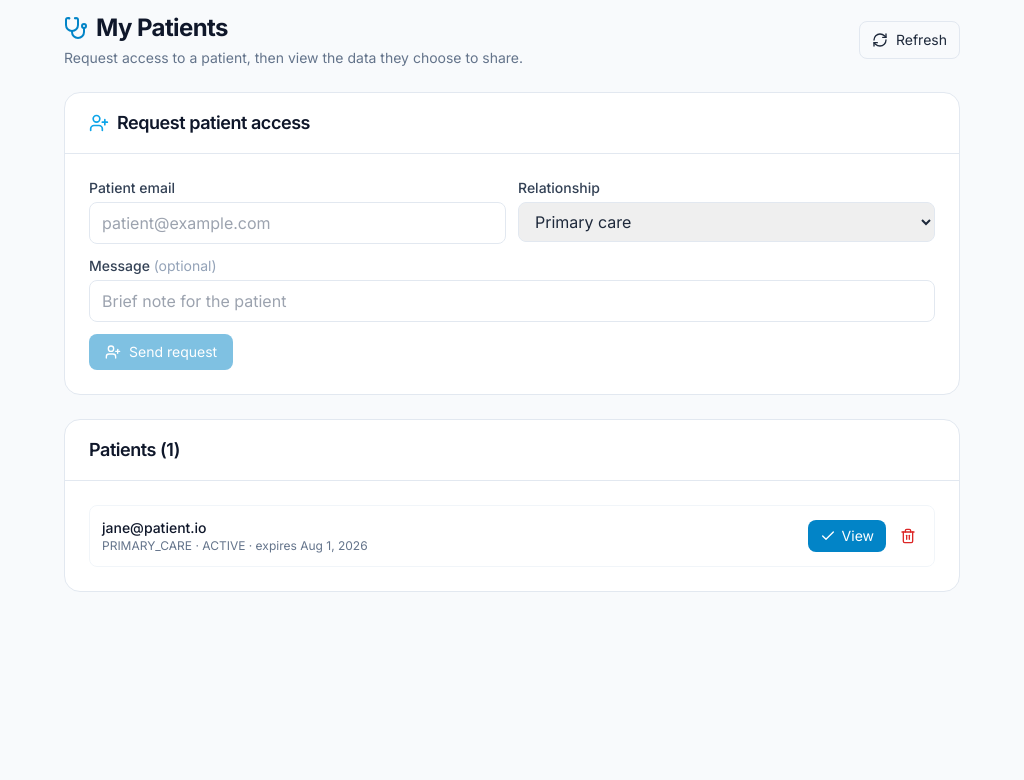
MyPatientsPage › gates the insurance section on canViewInsurance (M3): shows fallback + skips fetch when denied
This screenshot has width=1024, height=780.
Click the button "View" at (847, 536), box x1=808 y1=520 x2=886 y2=552
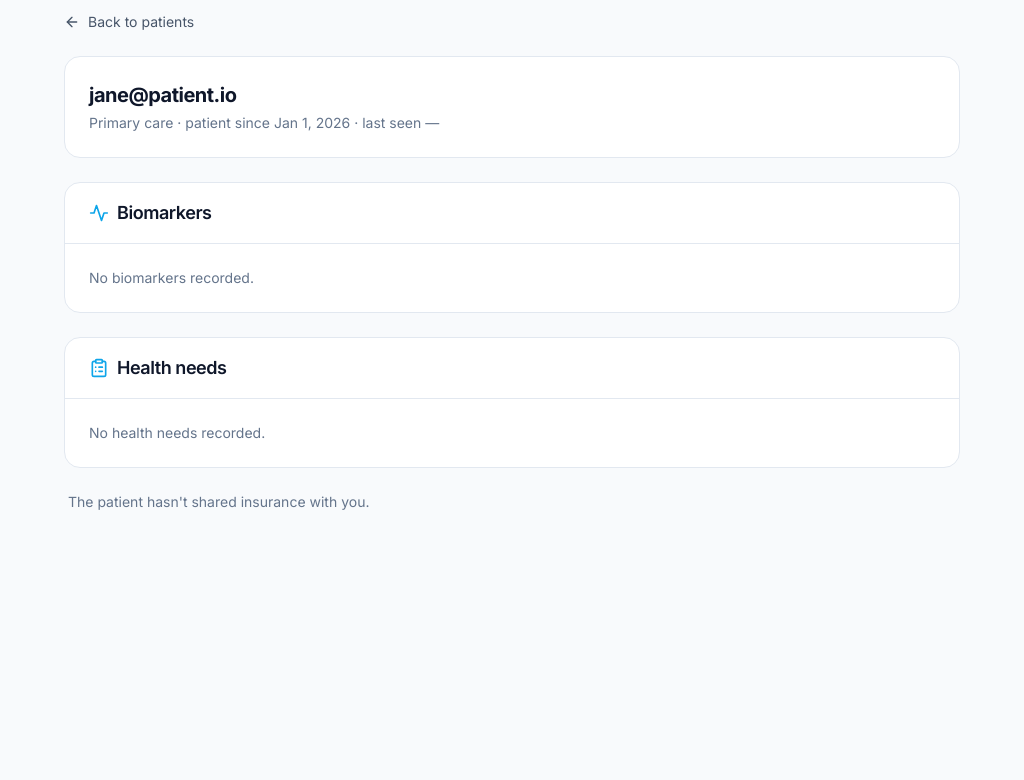
Expected: the text "The patient hasn't shared insurance with you." is shown, x1=68 y1=493 x2=369 y2=510
